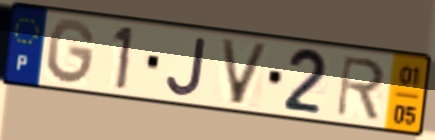1: (110, 24, 137, 93)
2: (279, 43, 333, 122)
G: (45, 16, 98, 87)
J: (164, 34, 210, 98)
R: (334, 53, 388, 122)
V: (218, 36, 272, 107)
